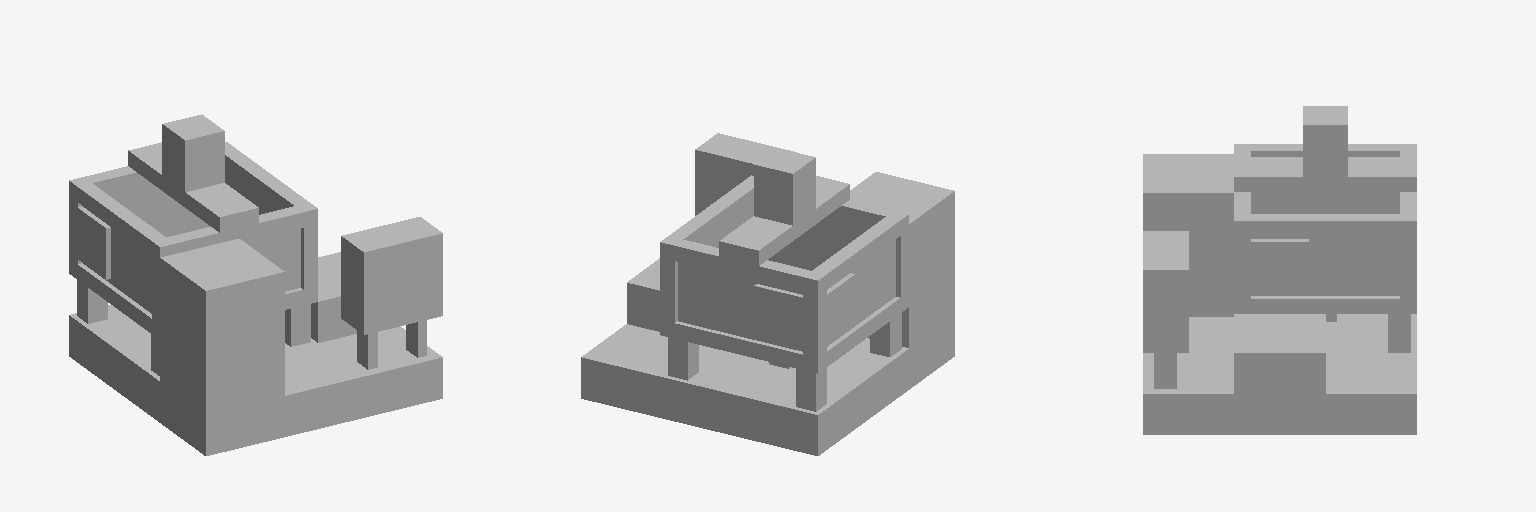
File: squeezer.obj
3 renders of one model, left to right at view 1: azimuth 30°, elevation 25°; view 2: azimuth 150°, elevation 25°; view 3: azimuth 270°, elevation 25°, orthographic.
Parts seen in each view (by area): view 1: base, energy, redstone, piston, piston_chair, top_left, right, output, back, bottom, top_back, top_front (+10 smaller); view 2: base, energy, right, bottom, piston, piston_chair, redstone, top_right, in2, left, back, top_back (+11 smaller); view 3: base, energy, output, front, redstone, piston_chair, top_front, back, piston, bottom, out, top_back (+6 smaller).
Boxes of the visible parts, x1,y1,x2,y2 form: base: [69, 305, 442, 455]; energy: [160, 239, 284, 414]; redstone: [341, 217, 442, 334]; piston: [162, 114, 224, 191]; piston_chair: [128, 142, 258, 232]; top_left: [152, 203, 317, 261]; right: [109, 184, 210, 236]; output: [311, 252, 356, 342]; back: [84, 207, 151, 313]; bottom: [69, 258, 317, 339]; top_back: [78, 183, 165, 255]; top_front: [225, 148, 309, 209]; base: [581, 315, 954, 455]; energy: [850, 172, 954, 347]; right: [678, 262, 802, 351]; bottom: [660, 292, 908, 373]; piston: [754, 148, 815, 225]; piston_chair: [719, 176, 849, 265]; redstone: [695, 133, 796, 215]; top_right: [660, 236, 826, 295]; in2: [754, 284, 802, 348]; left: [768, 217, 869, 270]; back: [827, 240, 895, 346]; top_back: [812, 217, 900, 288]; base: [1143, 314, 1416, 434]; energy: [1143, 154, 1233, 316]; output: [1234, 314, 1325, 393]; front: [1251, 237, 1399, 295]; redstone: [1143, 231, 1188, 352]; piston_chair: [1234, 157, 1416, 191]; top_front: [1251, 214, 1399, 236]; back: [1251, 192, 1399, 213]; piston: [1303, 106, 1347, 176]; bottom: [1234, 296, 1416, 313]; out: [1251, 239, 1308, 292]; top_back: [1251, 144, 1399, 156].
Bounding box in the file's own units: 3 × 2.94 × 3.